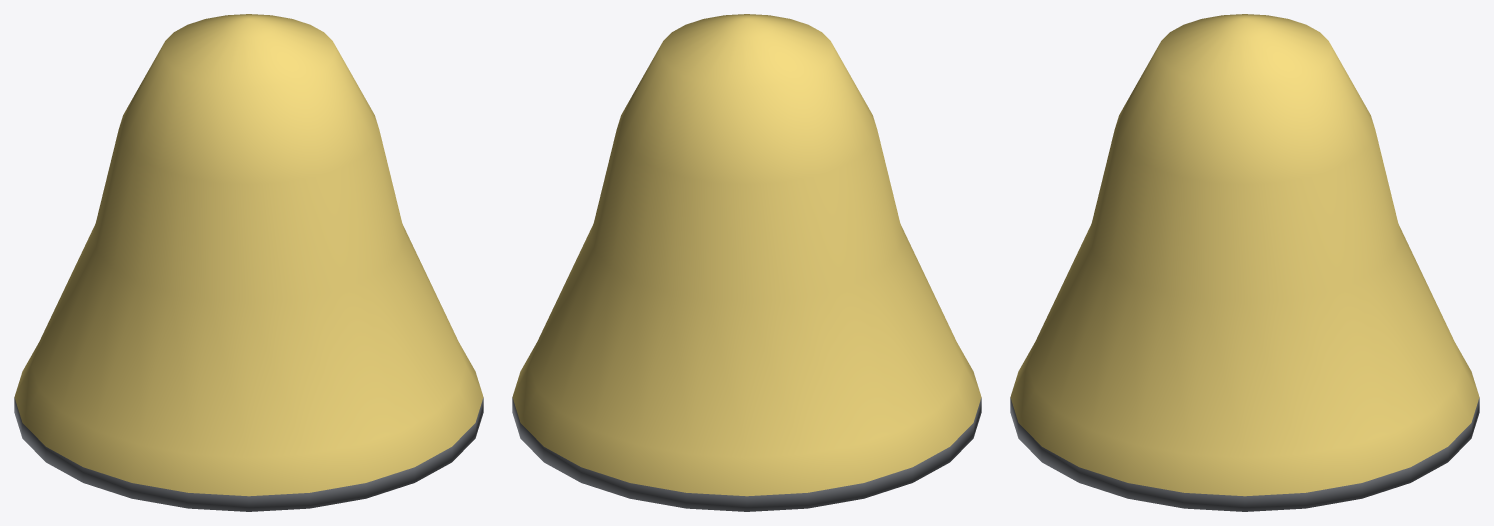
Rendered from bell.glb.
3 views of the same model, side by side, from view 1: azimuth 30°, elevation 25°; view 2: azimuth 150°, elevation 25°; view 3: azimuth 270°, elevation 25° (orthographic).
Parts seen in each view (by area): view 1: bell; view 2: bell; view 3: bell.
Part boxes in pixels (<box>): bell: <box>14,14,483,511</box>; bell: <box>512,14,981,511</box>; bell: <box>1010,14,1479,511</box>.
Bounding box in the file's own units: 1.08 × 1 × 1.08.
